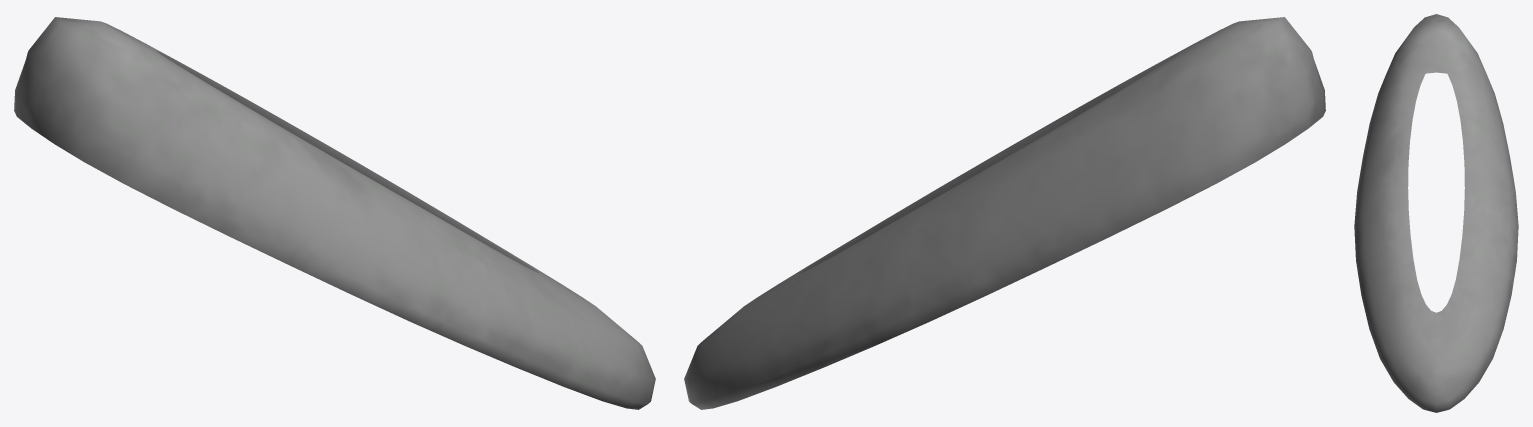
Rendered from wm_rivendell_sword_a01_silver_guard.fbx.
3 views of the same model, side by side, from view 1: azimuth 30°, elevation 25°; view 2: azimuth 150°, elevation 25°; view 3: azimuth 270°, elevation 25° (orthographic). The views are drawn at different scales.
Parts seen in each view (by area): view 1: wm_rivendell_sword_a01_silver_guard; view 2: wm_rivendell_sword_a01_silver_guard; view 3: wm_rivendell_sword_a01_silver_guard.
Part boxes in pixels (x1,y1,x2,y2): wm_rivendell_sword_a01_silver_guard: (14,17,655,409); wm_rivendell_sword_a01_silver_guard: (684,17,1325,409); wm_rivendell_sword_a01_silver_guard: (1354,14,1518,412).
Size of the model in its own units: 0.0551 by 0.0253 by 0.0441.
Materials: 1 (1 with a texture image).
